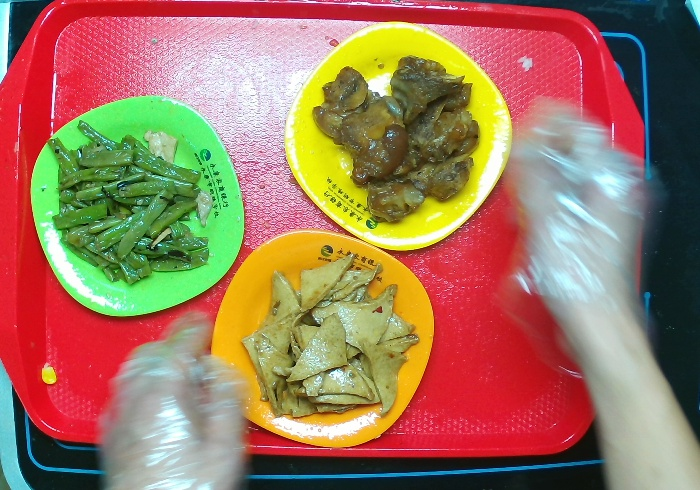YKMZ-Huang_Se_Fang_Die: (282, 16, 510, 249)
YKMZ-Ju_Se_Fang_Die: (213, 226, 435, 452)
YKMZ-Lv_Se_Fang_Die: (29, 95, 246, 317)
